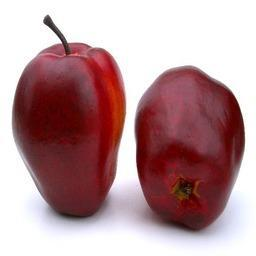apple: (10, 46, 127, 220), (134, 64, 246, 227)
